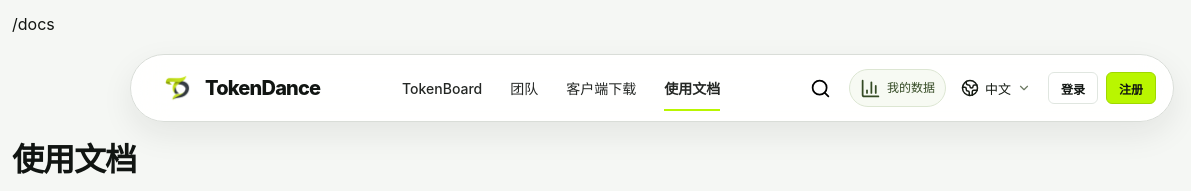
Test case: Guest access without a site-wide login wall › uses the fixed analytics action to sign in with a return destination
Click the button "我的数据": click(897, 88) [849,69,946,107]
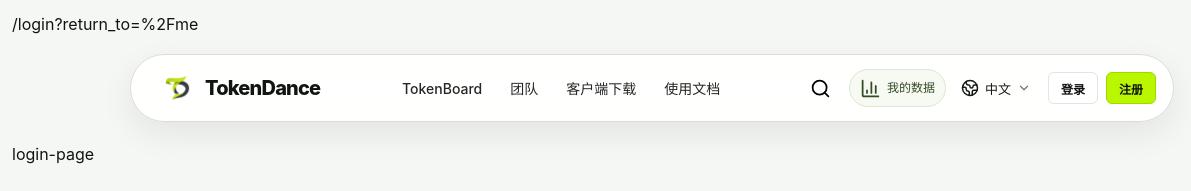
expect the text "login-page" is shown: met, box [12,144,94,164]
expect the text with test id "current-path" reads "/login?return_to=%2Fme": met, box [12,14,198,34]
